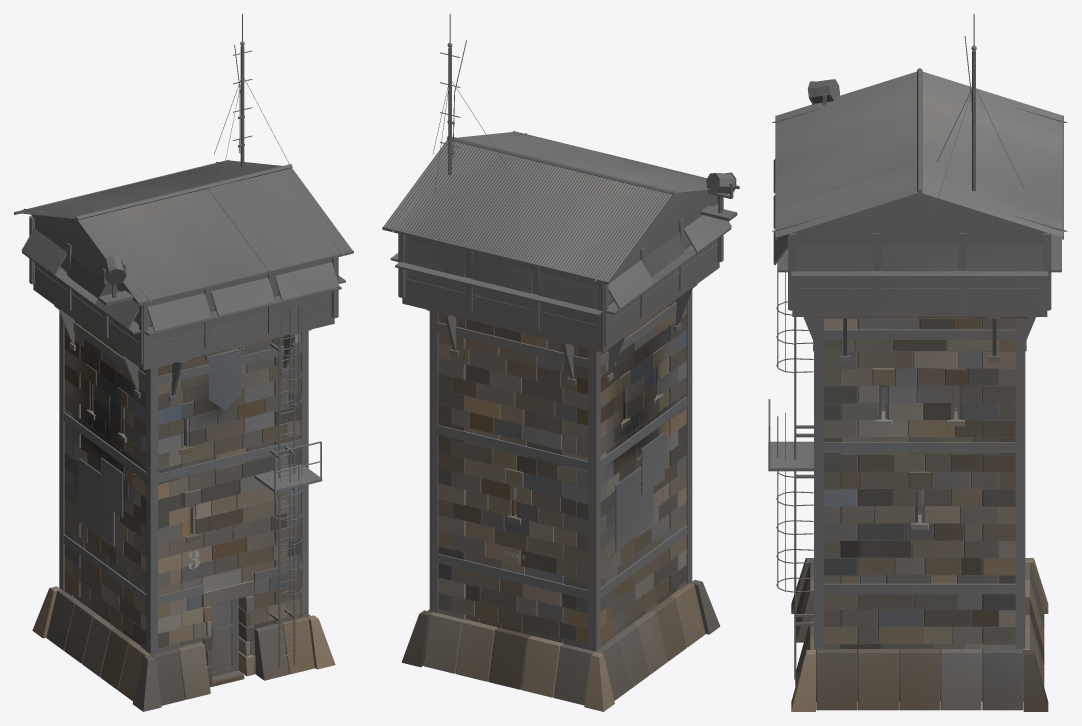
File: Watchtower3_LOD1.glb
3 views of the same model, side by side, from view 1: azimuth 30°, elevation 25°; view 2: azimuth 150°, elevation 25°; view 3: azimuth 270°, elevation 25° (orthographic). The views are drawn at different scales.
Visible parts, largest first — view 1: Watchtower3_Metal_LOD1, Watchtower3_Masonry_LOD1, Watchtower3_Roof_LOD1, Watchtower3_Trim_LOD1, Watchtower3_Canvas_LOD1, Watchtower3_Hardware_LOD1; view 2: Watchtower3_Masonry_LOD1, Watchtower3_Metal_LOD1, Watchtower3_Roof_LOD1, Watchtower3_Trim_LOD1; view 3: Watchtower3_Masonry_LOD1, Watchtower3_Metal_LOD1, Watchtower3_Roof_LOD1, Watchtower3_Trim_LOD1.
Boxes of the visible parts, x1,y1,x2,y2 form: Watchtower3_Metal_LOD1: (14, 14, 353, 681); Watchtower3_Masonry_LOD1: (64, 320, 305, 674); Watchtower3_Roof_LOD1: (15, 160, 352, 302); Watchtower3_Trim_LOD1: (32, 329, 335, 711); Watchtower3_Canvas_LOD1: (209, 350, 241, 410); Watchtower3_Hardware_LOD1: (280, 336, 293, 657); Watchtower3_Masonry_LOD1: (434, 300, 686, 651); Watchtower3_Metal_LOD1: (382, 14, 739, 651); Watchtower3_Roof_LOD1: (383, 131, 738, 281); Watchtower3_Trim_LOD1: (401, 309, 720, 711); Watchtower3_Masonry_LOD1: (816, 317, 1023, 701); Watchtower3_Metal_LOD1: (768, 14, 1063, 679); Watchtower3_Roof_LOD1: (772, 71, 1067, 237); Watchtower3_Trim_LOD1: (791, 317, 1048, 711).
Size of the model in its own units: 7.05 by 16.92 by 6.62.
